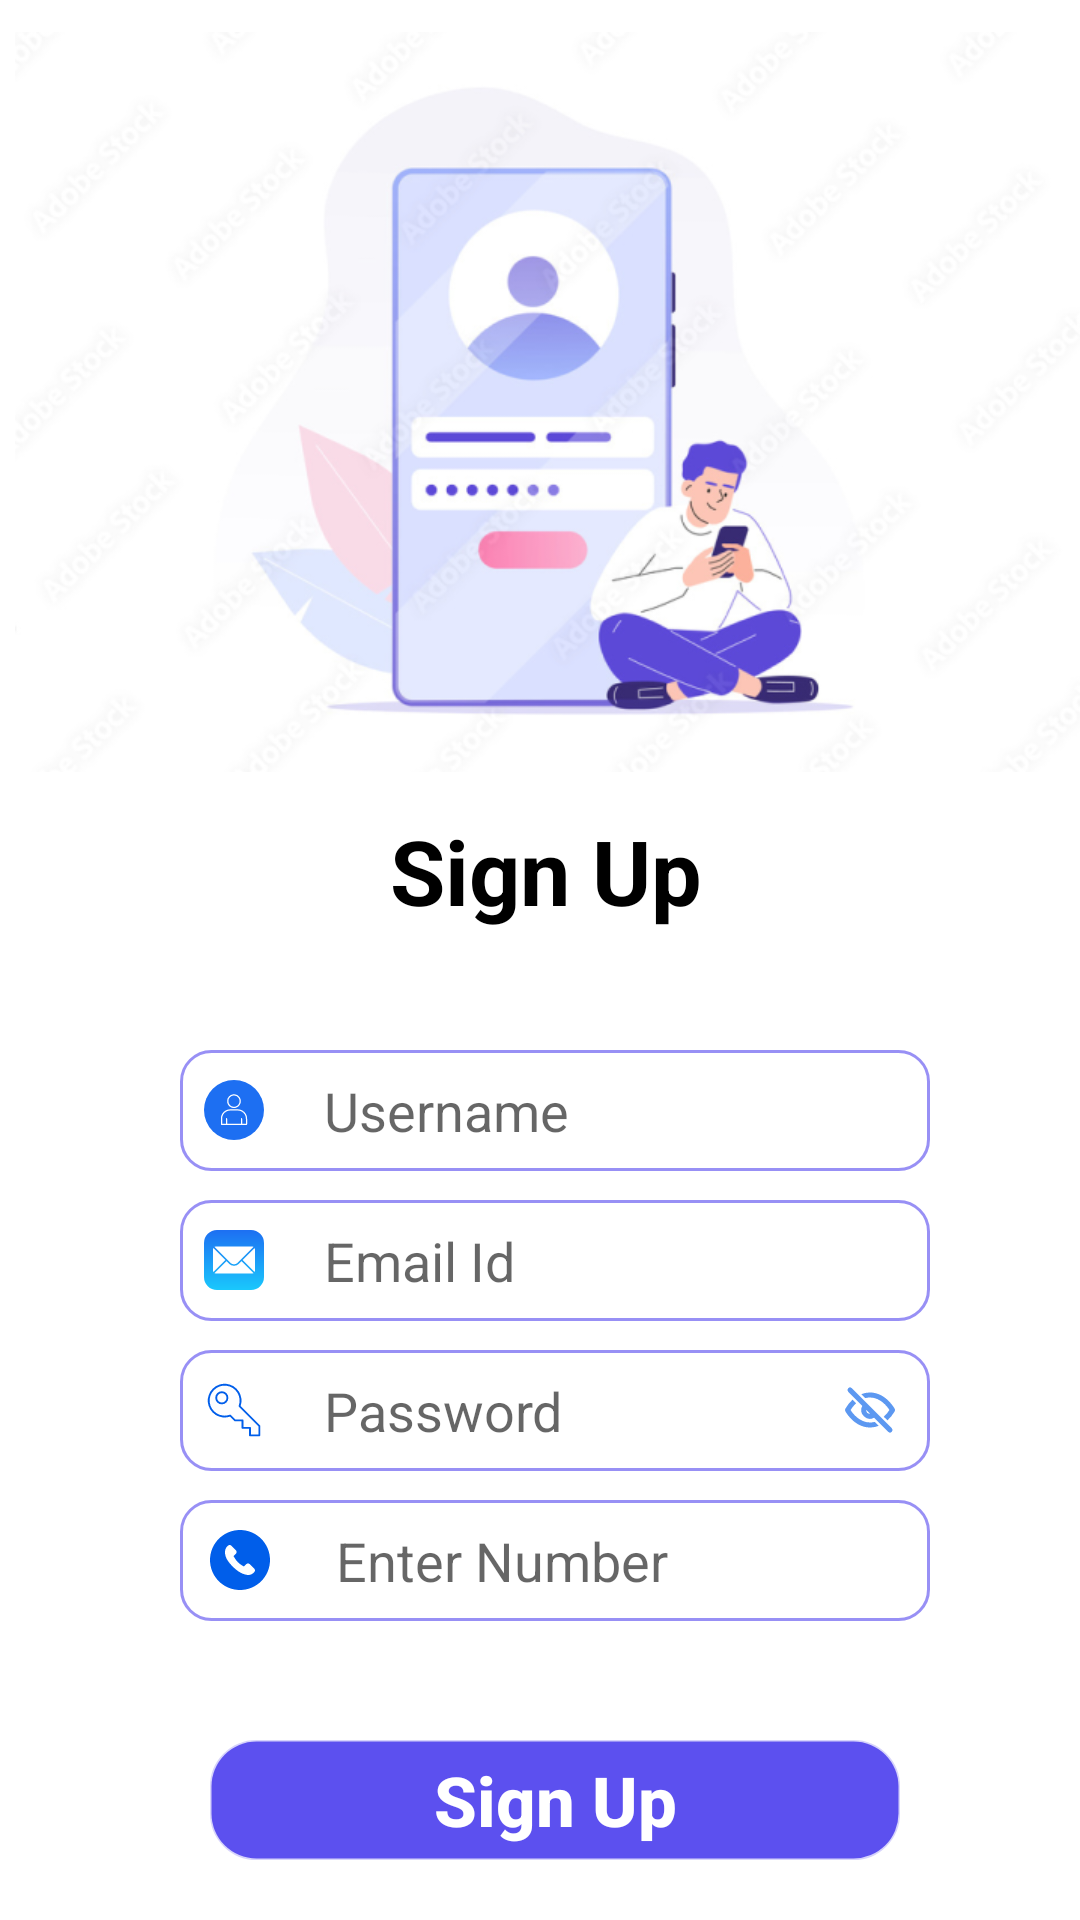

Screen size 1080w x 1920h. Icon name, then its center in pixels as (x,y):
hide: (870,1410)
